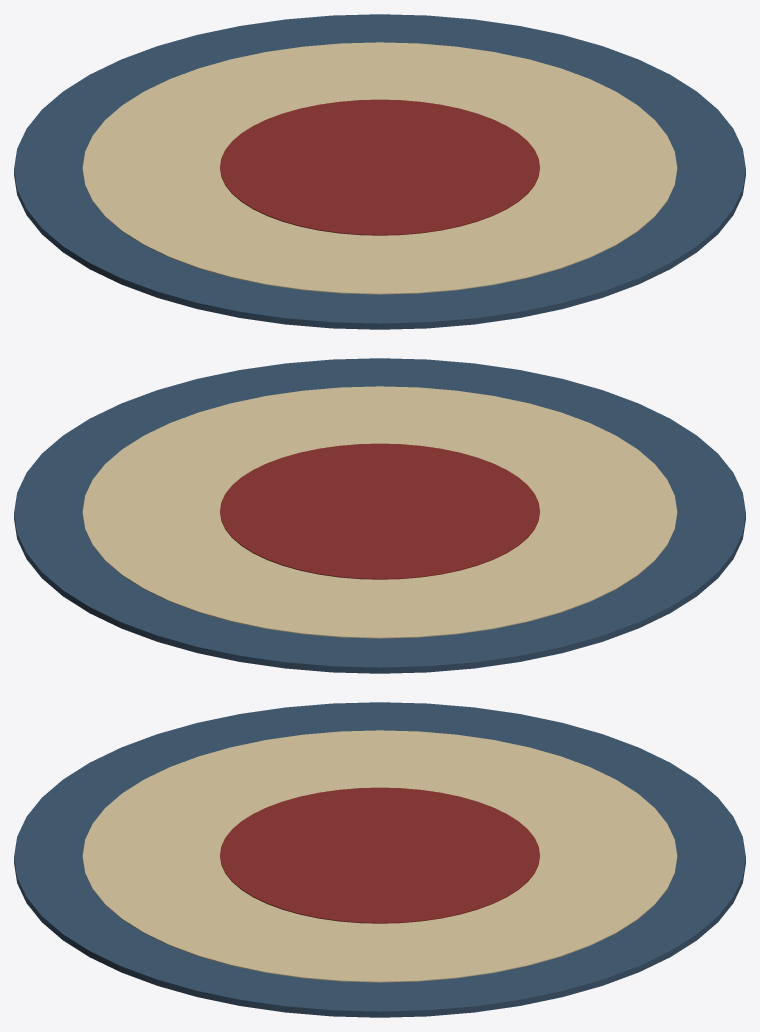
Rendered from Rug_Round_1.6m.glb.
The picture shows the model from 3 angles, top to bottom: view 1: azimuth 30°, elevation 25°; view 2: azimuth 150°, elevation 25°; view 3: azimuth 270°, elevation 25°; orthographic projection.
Parts seen in each view (by area): view 1: Rug_Round_1.6m; view 2: Rug_Round_1.6m; view 3: Rug_Round_1.6m.
Part boxes in pixels (left/top/right/bottom): Rug_Round_1.6m: left=14, top=14, right=745, bottom=329; Rug_Round_1.6m: left=14, top=358, right=745, bottom=673; Rug_Round_1.6m: left=14, top=702, right=745, bottom=1017.
Size of the model in its own units: 1.6 by 0.019 by 1.6.
